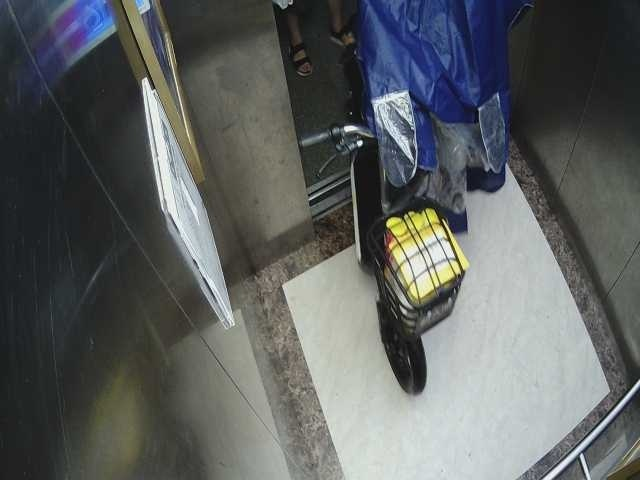emotor: (298, 76, 472, 392)
